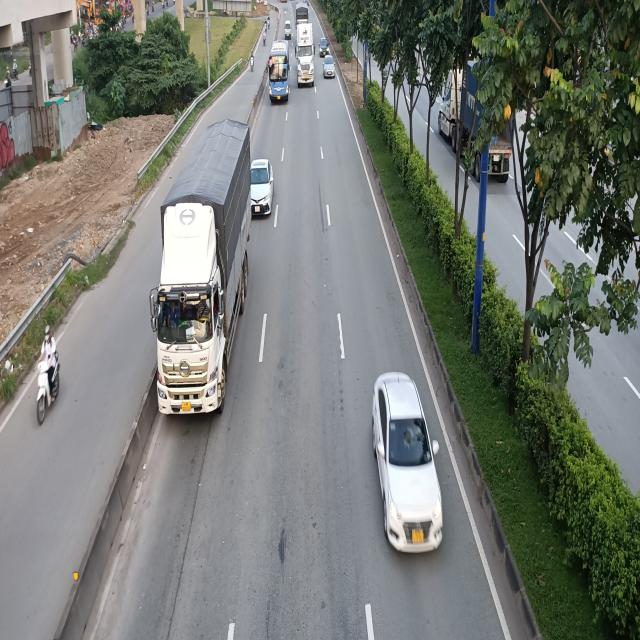car: (372, 370, 442, 555), (252, 157, 274, 216), (322, 56, 335, 79), (318, 38, 329, 56)
coach: (267, 40, 289, 103)
container: (295, 21, 315, 86)
truck: (150, 118, 251, 423)
van: (284, 20, 292, 38)
